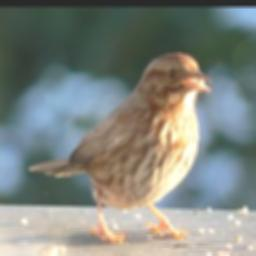Sparrow: (23, 49, 212, 244)
